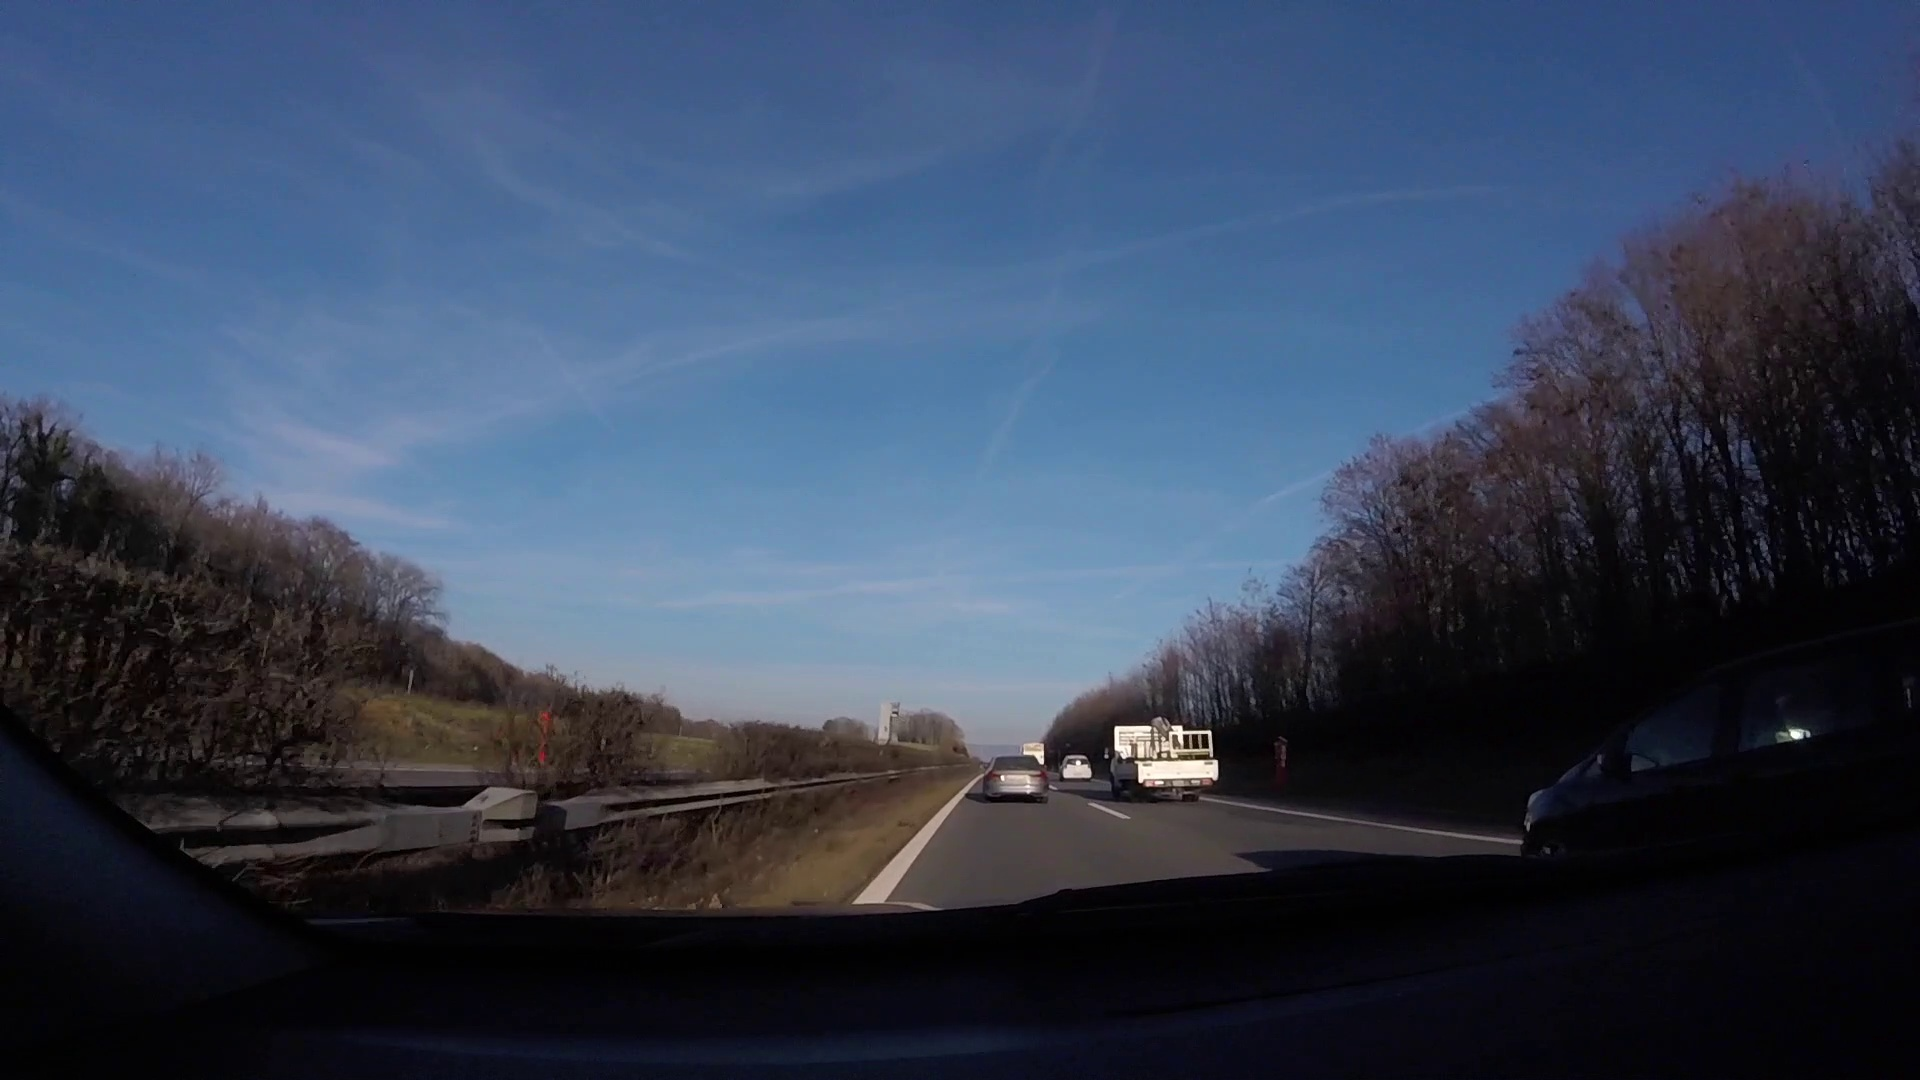radar: (877, 699, 902, 750)
